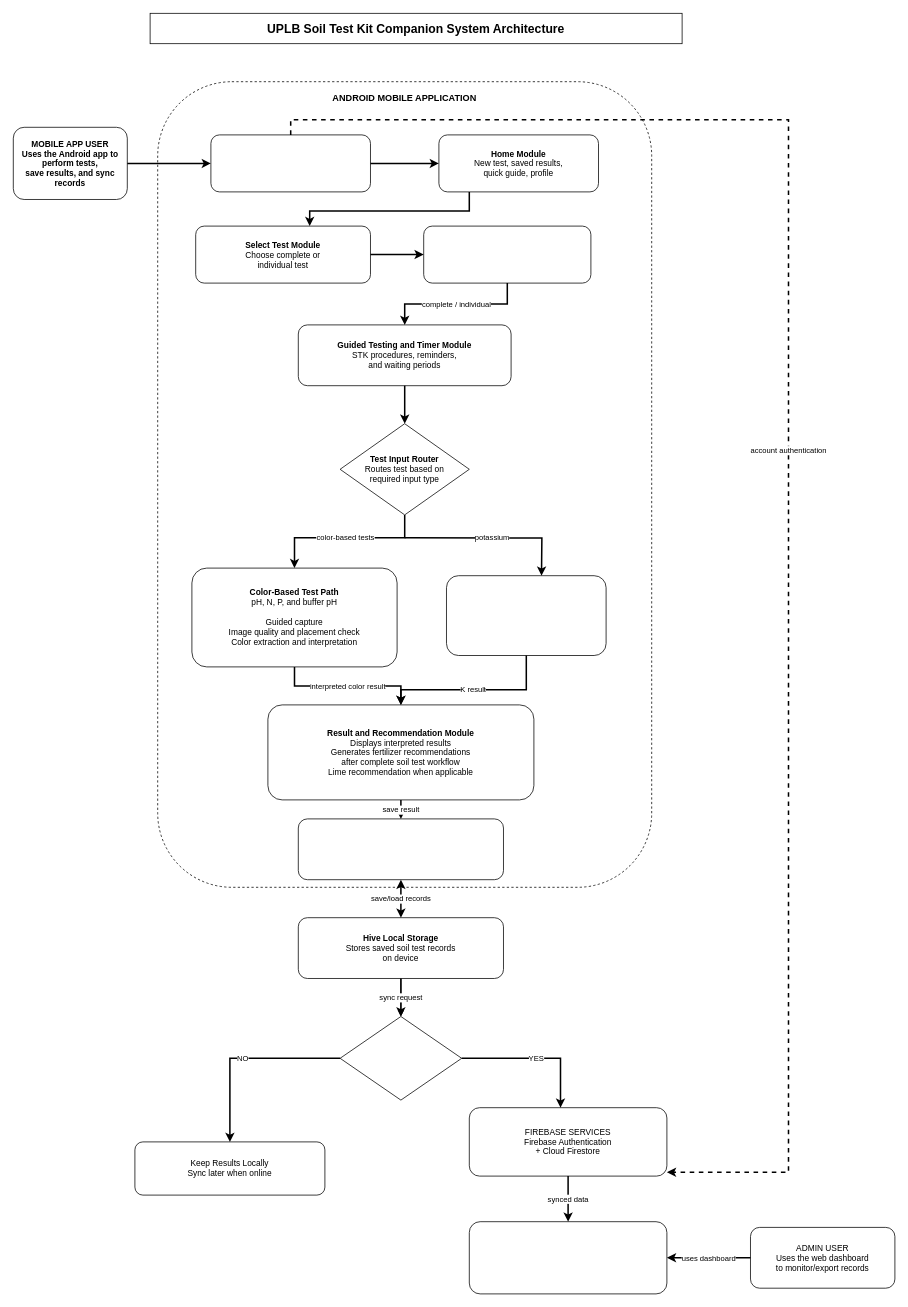
Some shapes in this 908 by 1307 pixel diagram are drawn without their labels. Here are the shapes that lost their labels. From the top down, the centre of each, then its label:
At pixel 290 163: "Authentication Module Login, sign-up, password reset".
At pixel 507 254: "Test Flow Controller Manages complete test sequence or selected individual test".
At pixel 526 615: "Potassium Manual Input Module User confirms cloudy-layer presence".
At pixel 401 849: "Saved Results Module Save, view, and prepare records for sync".
At pixel 400 1058: "Internet available?".
At pixel 568 1257: "WEB-BASED ADMIN DASHBOARD View users and synced results Export CSV".
